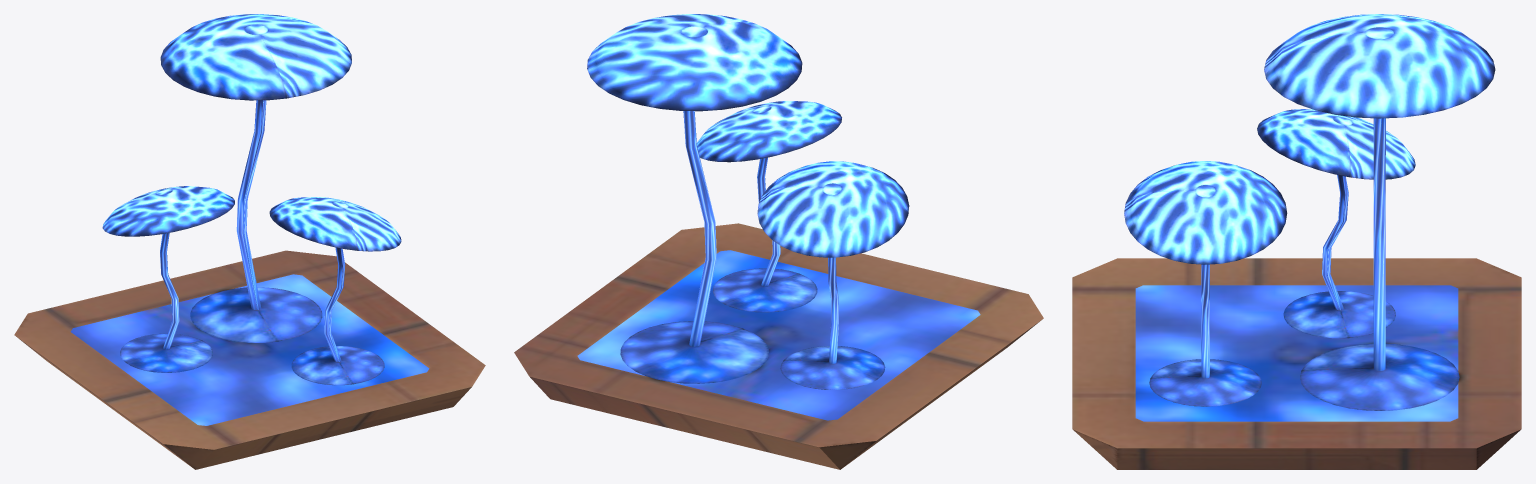
File: mushroom_platform.glb
3 views of the same model, side by side, from view 1: azimuth 30°, elevation 25°; view 2: azimuth 150°, elevation 25°; view 3: azimuth 270°, elevation 25° (orthographic). The views are drawn at different scales.
Parts seen in each view (by area): view 1: platform.001; view 2: platform.001; view 3: platform.001.
Boxes of the visible parts, x1,y1,x2,y2 form: platform.001: [14, 14, 485, 469]; platform.001: [514, 14, 1043, 469]; platform.001: [1072, 14, 1521, 469].
Size of the model in its own units: 1 by 0.945 by 1.
1 material, 1 textured.
